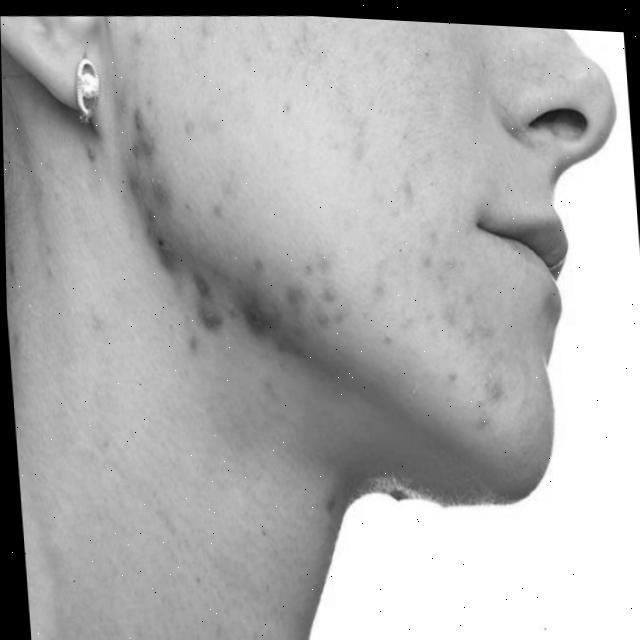Acne: (128, 99, 510, 423)
